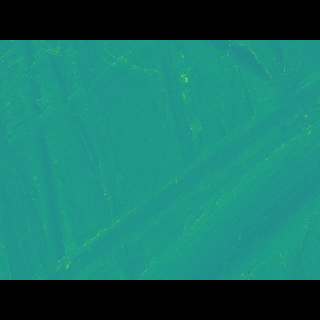Loch: (31, 91, 319, 250), (0, 68, 201, 167)
